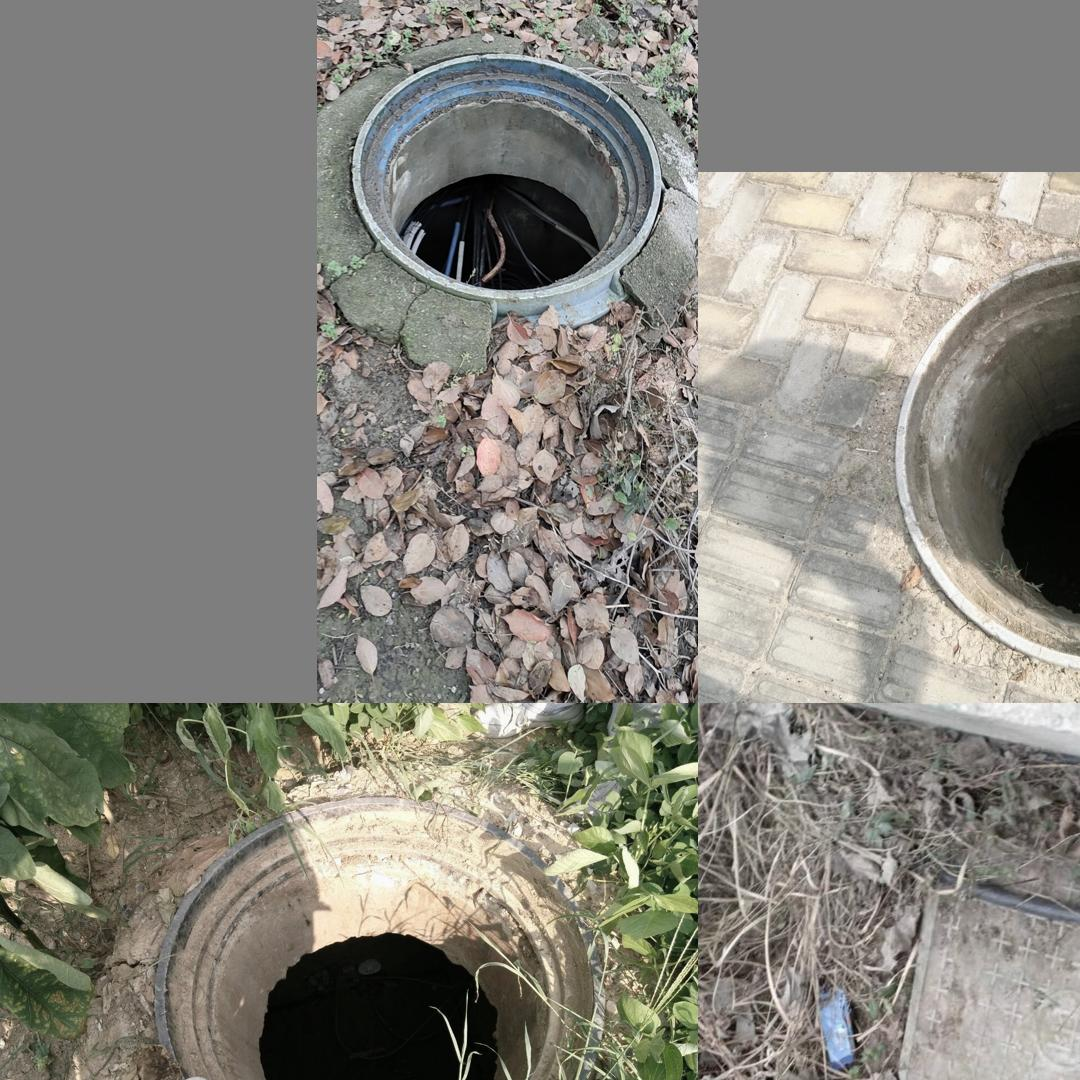lose: (152, 796, 601, 1080), (894, 253, 1080, 671), (350, 48, 663, 296), (857, 809, 1080, 1080)
